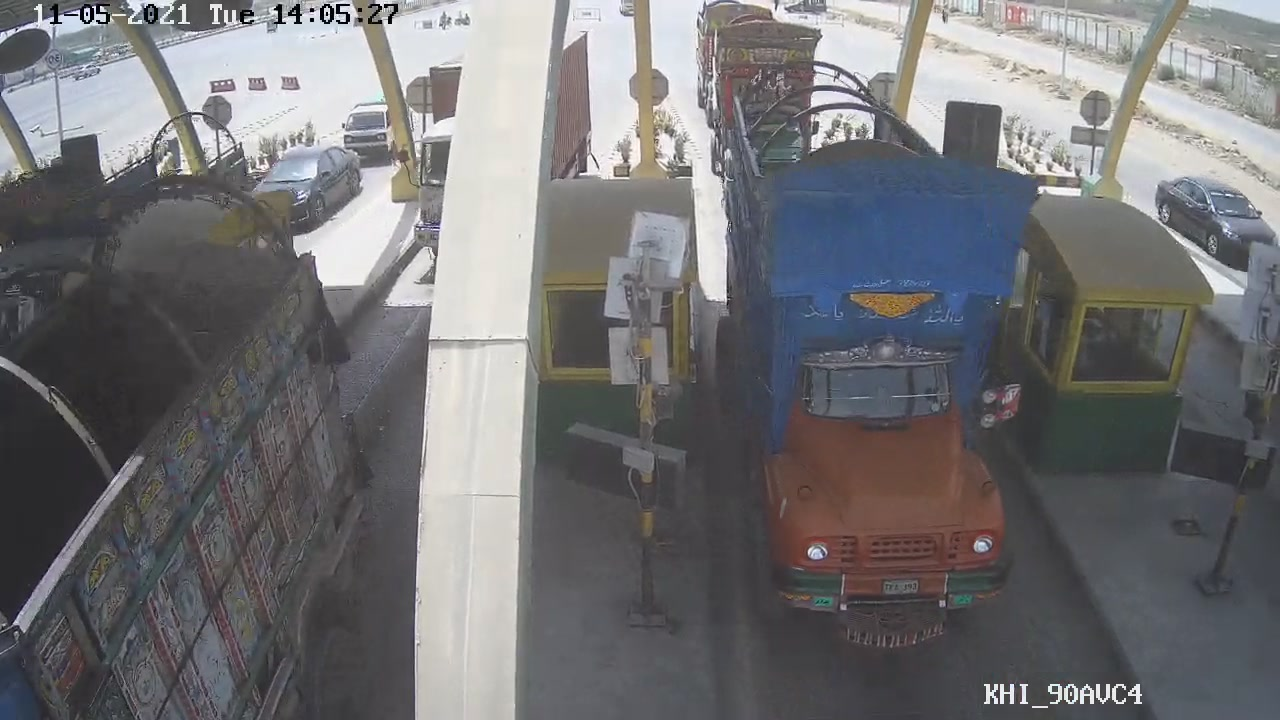F5: (708, 117, 1026, 656)
